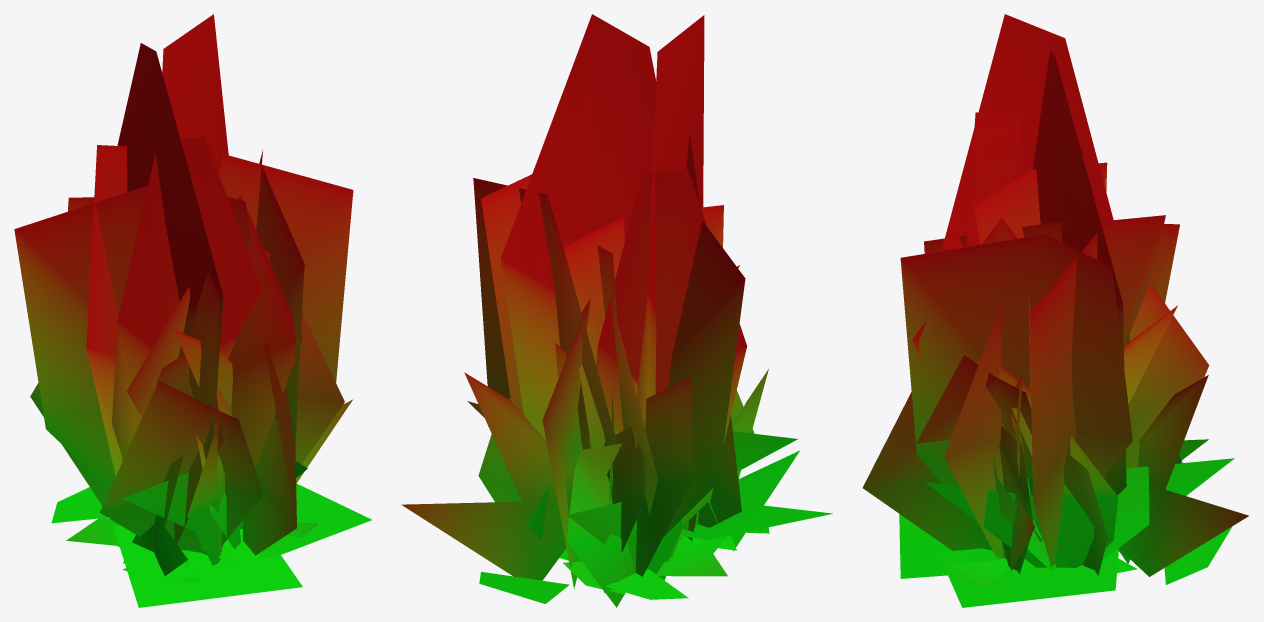
The model's file is Kikuyu Grass_LOD5_Var10_wiljearqx.fbx.
3 views of the same model, side by side, from view 1: azimuth 30°, elevation 25°; view 2: azimuth 150°, elevation 25°; view 3: azimuth 270°, elevation 25° (orthographic). The views are drawn at different scales.
Visible parts, largest first — view 1: _dw2o_Var10_LOD5; view 2: _dw2o_Var10_LOD5; view 3: _dw2o_Var10_LOD5.
Boxes of the visible parts, <box> form: _dw2o_Var10_LOD5: <box>14,14,371,607</box>; _dw2o_Var10_LOD5: <box>401,14,832,607</box>; _dw2o_Var10_LOD5: <box>862,14,1248,607</box>.
Bounding box in the file's own units: 31.6 × 52.38 × 35.06.
